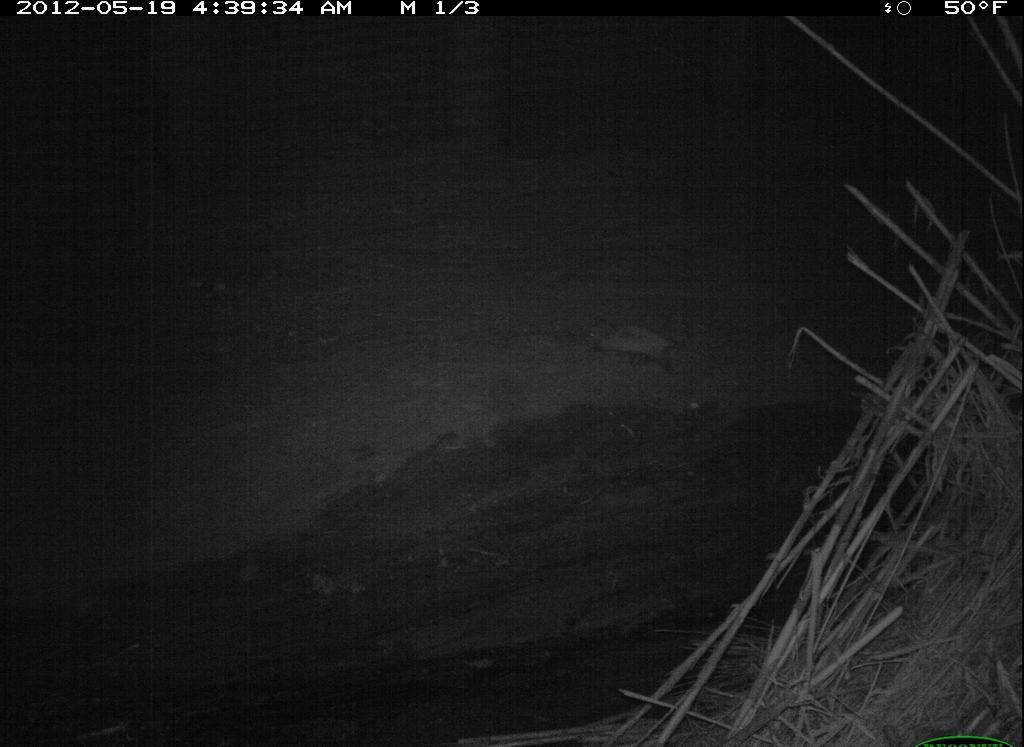opossum: (587, 315, 703, 383)
